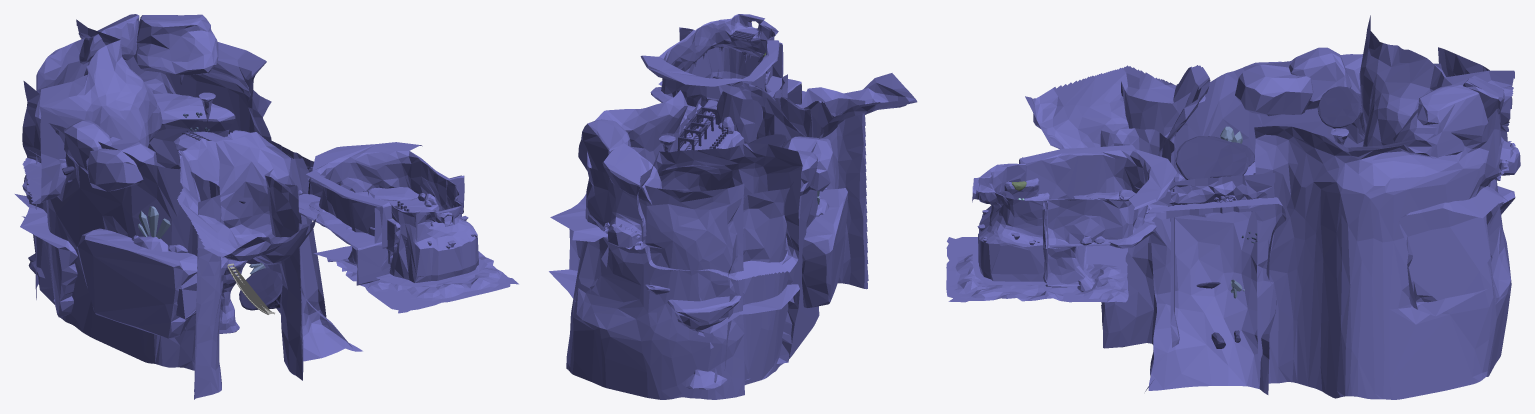
File: cave_scenes.fbx
3 views of the same model, side by side, from view 1: azimuth 30°, elevation 25°; view 2: azimuth 150°, elevation 25°; view 3: azimuth 270°, elevation 25° (orthographic). The views are drawn at different scales.
Visible parts, largest first — view 1: CA2_wall3, CA2_rock_blob6, CA2_rock_blob3, CA2_ground4, CA1_back_wall, CA2_wall4, CA2_wall1, CA1_starting_wall, CA2_rock_blob5, CA1_pit_bottom, CA2_ground2, CA1_ground (+11 smaller); view 2: CA2_wall1, CA2_wall3, CA2_rock_blob3, CA2_rock_blob6, CA1_starting_wall, CA2_ground4, CA1_back_wall, CA2_column_platform3, CA2_ground2, CA2_rock_blob4, CA2_ground3, CA2_rock_blob5 (+5 smaller); view 3: CA2_wall1, CA2_ground1, CA1_back_wall, CA2_rock_blob6, CA2_wall3, CA2_rock_blob3, CA1_starting_wall, CA2_wall4, CA1_pit_bottom, CA2_rock_blob5, CA2_rock_blob2, CA2_hall_wall (+7 smaller).
Part boxes in pixels (<box>): CA2_wall3: <box>22,81,221,399</box>; CA2_rock_blob6: <box>177,130,315,264</box>; CA2_rock_blob3: <box>22,19,162,203</box>; CA2_ground4: <box>77,228,197,338</box>; CA1_back_wall: <box>306,142,464,248</box>; CA2_wall4: <box>264,158,362,380</box>; CA2_wall1: <box>34,38,280,313</box>; CA1_starting_wall: <box>374,175,487,287</box>; CA2_rock_blob5: <box>133,14,218,75</box>; CA1_pit_bottom: <box>313,246,518,313</box>; CA2_ground2: <box>148,93,235,169</box>; CA1_ground: <box>299,191,441,285</box>; CA2_wall1: <box>566,90,744,399</box>; CA2_wall3: <box>724,98,868,384</box>; CA2_rock_blob3: <box>637,143,802,280</box>; CA2_rock_blob6: <box>739,73,917,139</box>; CA1_starting_wall: <box>679,14,783,78</box>; CA2_ground4: <box>802,188,847,307</box>; CA1_back_wall: <box>640,27,779,118</box>; CA2_column_platform3: <box>667,292,743,389</box>; CA2_ground2: <box>549,194,608,301</box>; CA2_rock_blob4: <box>602,143,661,204</box>; CA2_ground3: <box>698,284,799,382</box>; CA2_rock_blob5: <box>578,119,631,173</box>; CA2_wall1: <box>1254,47,1520,399</box>; CA2_ground1: <box>1148,197,1286,394</box>; CA1_back_wall: <box>1019,145,1177,249</box>; CA2_rock_blob6: <box>1025,65,1210,172</box>; CA2_wall3: <box>1121,54,1445,180</box>; CA2_rock_blob3: <box>1358,15,1514,146</box>; CA1_starting_wall: <box>972,157,1048,284</box>; CA2_wall4: <box>1100,128,1179,391</box>; CA1_pit_bottom: <box>946,237,1128,302</box>; CA2_rock_blob5: <box>1393,85,1488,158</box>; CA2_rock_blob2: <box>1235,61,1313,116</box>; CA2_hall_wall: <box>1166,173,1275,218</box>.
Size of the model in its own units: 332 by 271 by 519.
